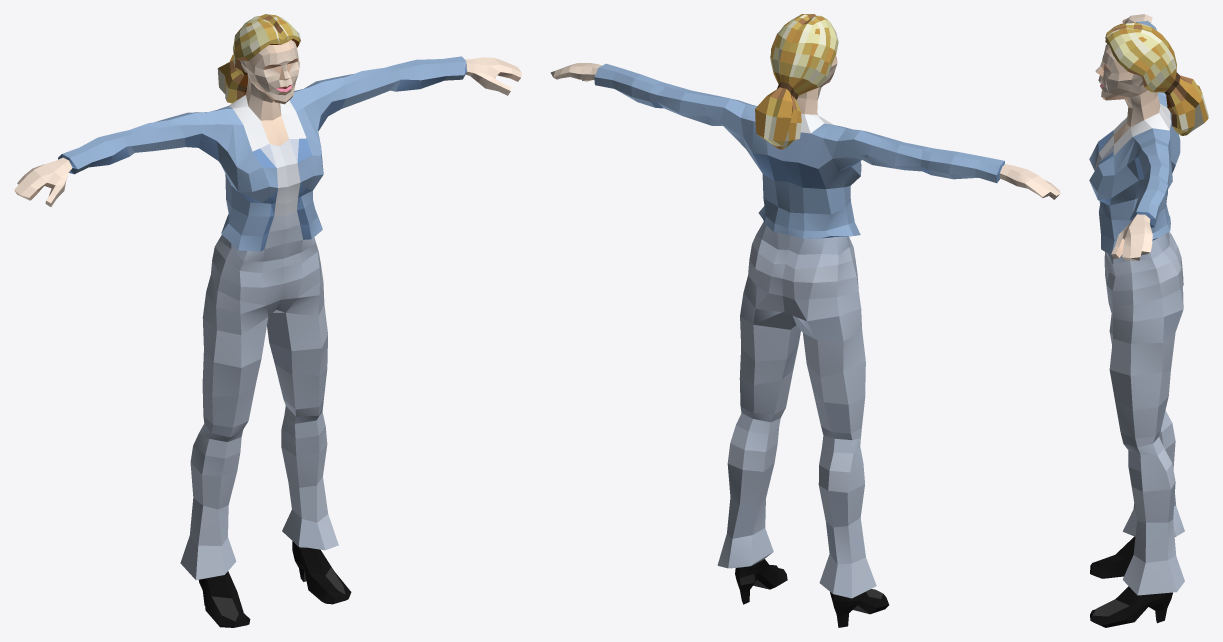
File: office_Female_B-model.obj
3 views of the same model, side by side, from view 1: azimuth 30°, elevation 25°; view 2: azimuth 150°, elevation 25°; view 3: azimuth 270°, elevation 25° (orthographic). The views are drawn at different scales.
Visible parts, largest first — view 1: office_Female_B, acc_hair_blond_fringes; view 2: office_Female_B, acc_hair_blond_fringes; view 3: office_Female_B, acc_hair_blond_fringes.
Part boxes in pixels (x1=…): office_Female_B: x1=14, y1=40, x2=521, y2=627; acc_hair_blond_fringes: x1=217, y1=14, x2=300, y2=103; office_Female_B: x1=550, y1=55, x2=1060, y2=627; acc_hair_blond_fringes: x1=755, y1=14, x2=838, y2=149; office_Female_B: x1=1089, y1=14, x2=1184, y2=627; acc_hair_blond_fringes: x1=1105, y1=22, x2=1208, y2=135.
Size of the model in its own units: 154 by 170 by 32.28.
